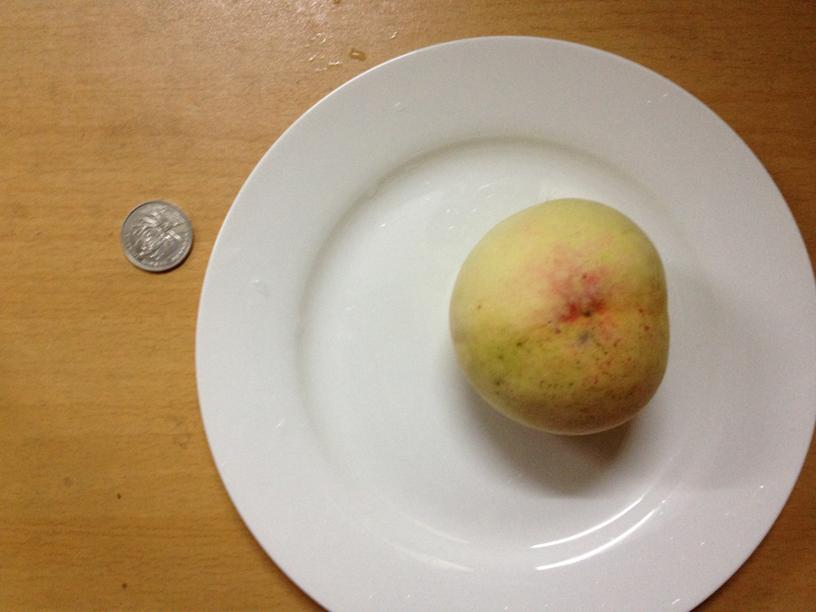coin: (117, 198, 194, 273)
peach: (453, 198, 669, 435)
